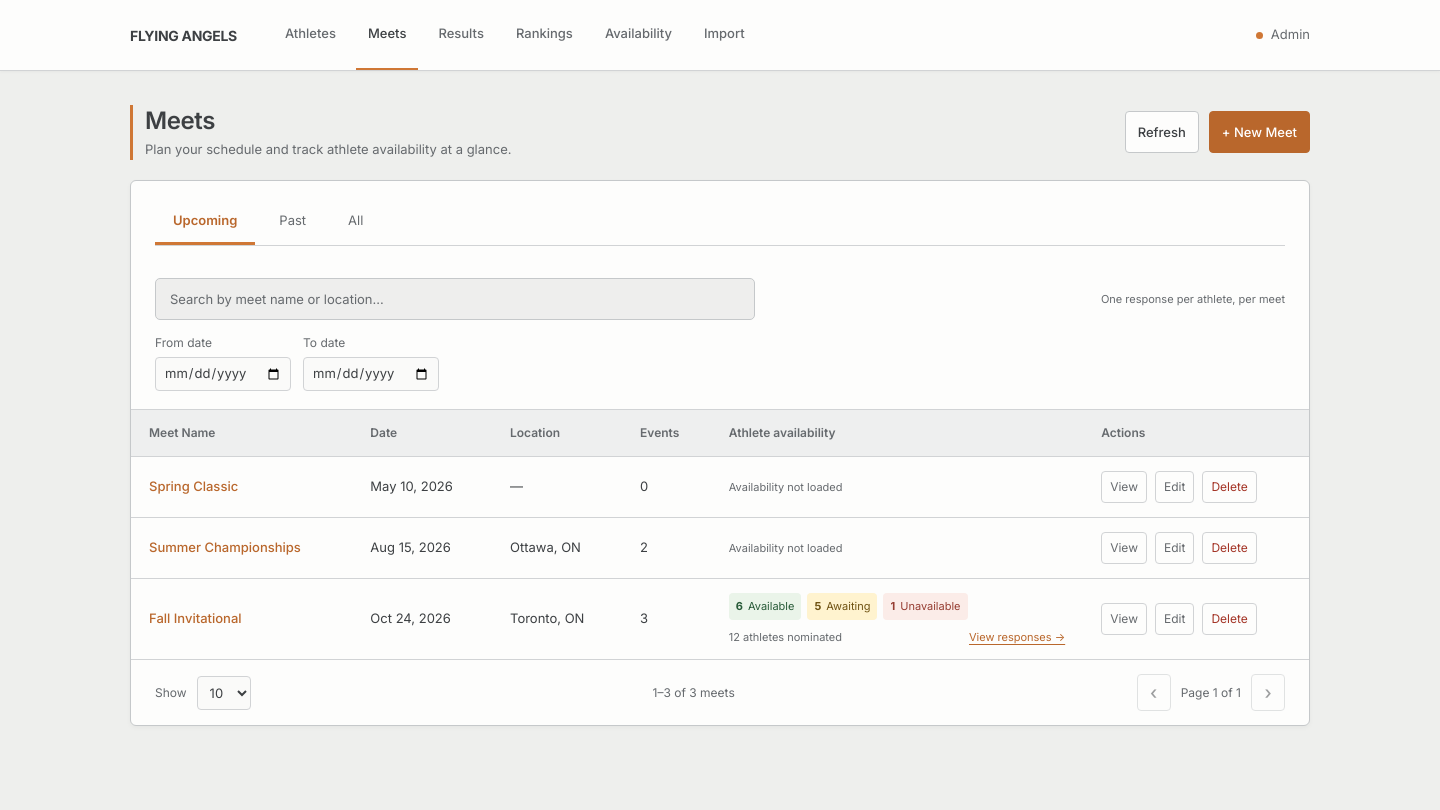
Scenario: Meets List › reloads response counts after meet edits invalidate confirmations
Expected: the column heading "Fall Invitational" is shown, [131, 579, 352, 659]
Click the button "Edit" in the row of "Fall Invitational". click: click(1175, 619)
box: [1155, 603, 1194, 635]
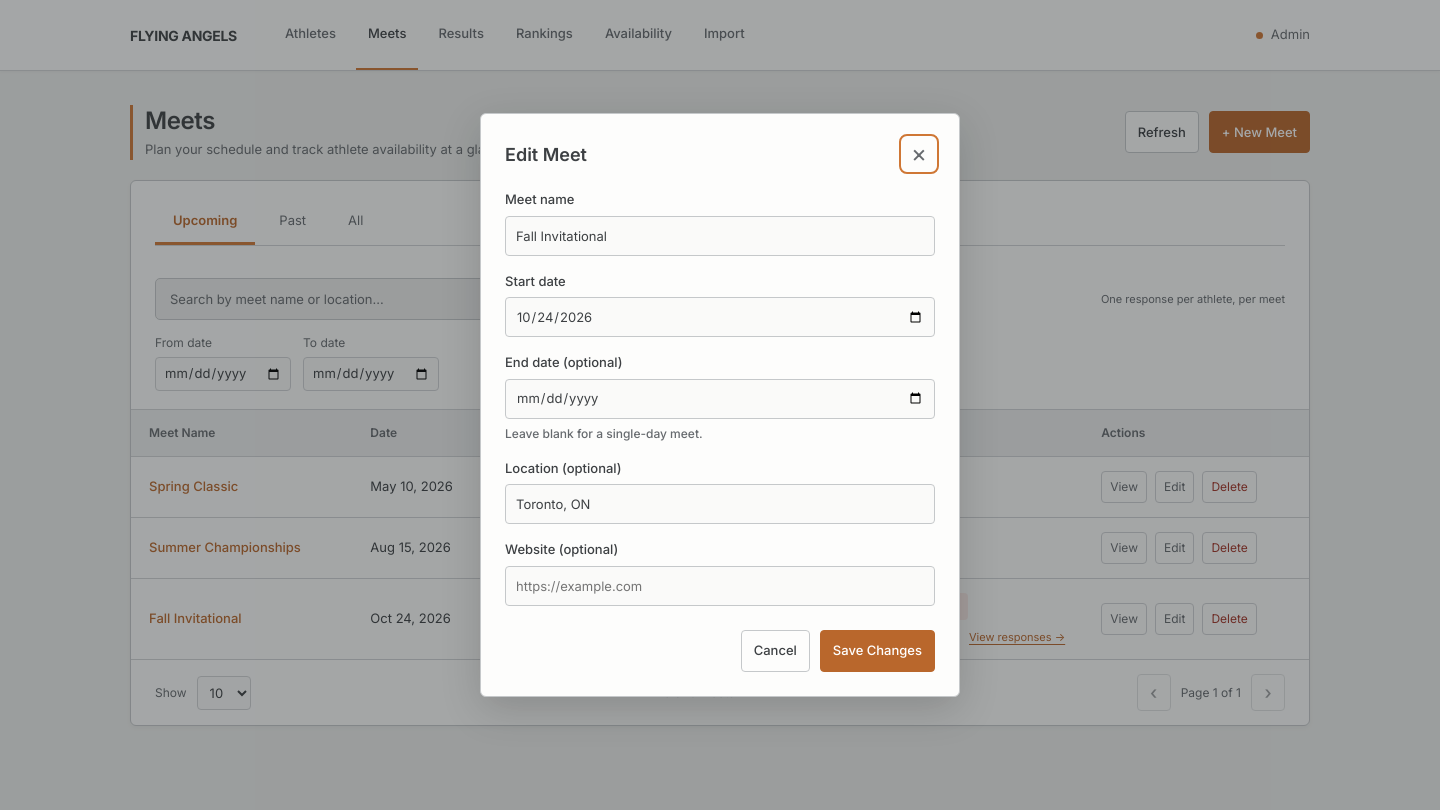
Replace the text in the field labelled "Location (optional)" with "New stadium". click: (720, 504)
box: [505, 484, 935, 524]
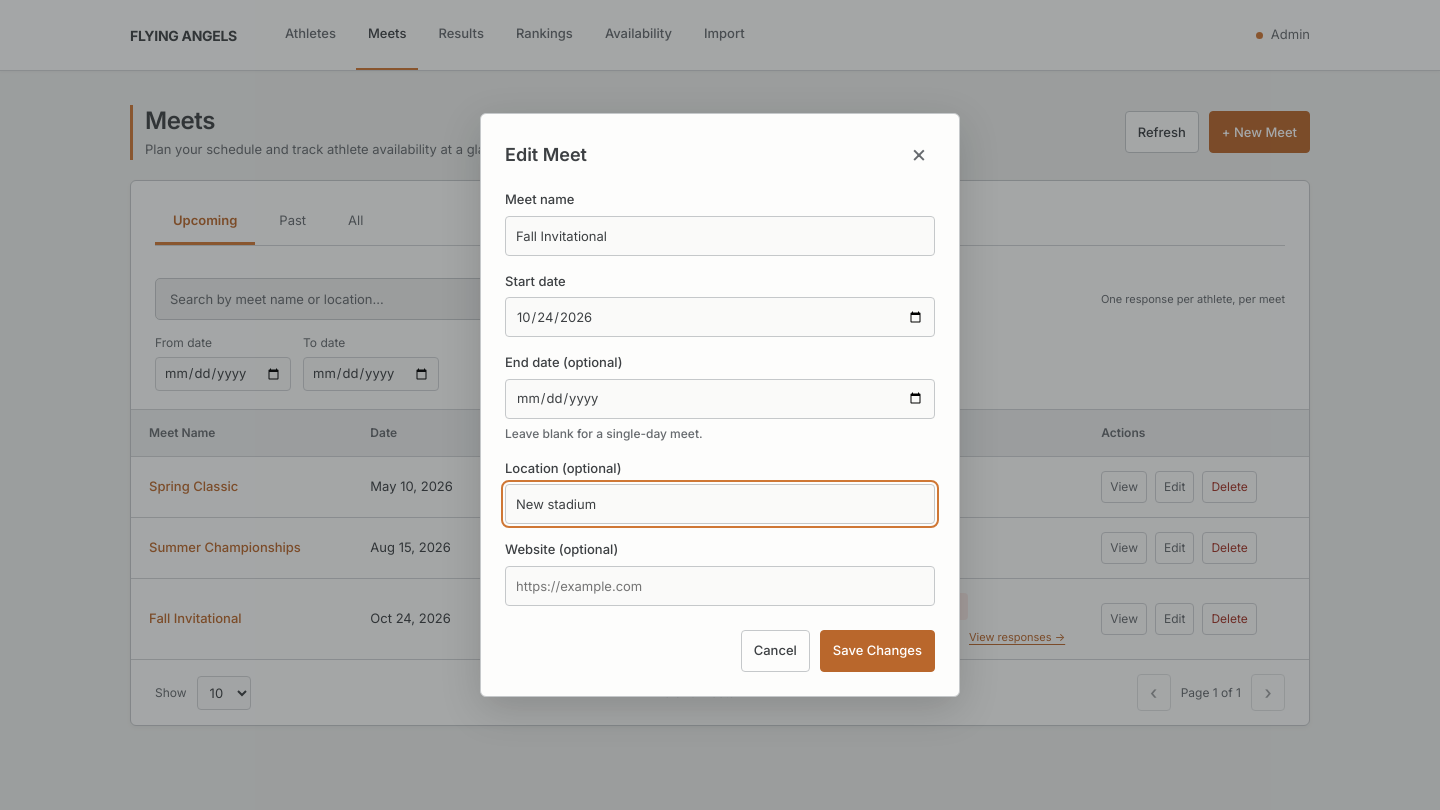
Click the button "Save Changes". click: click(877, 651)
box: [820, 630, 935, 672]
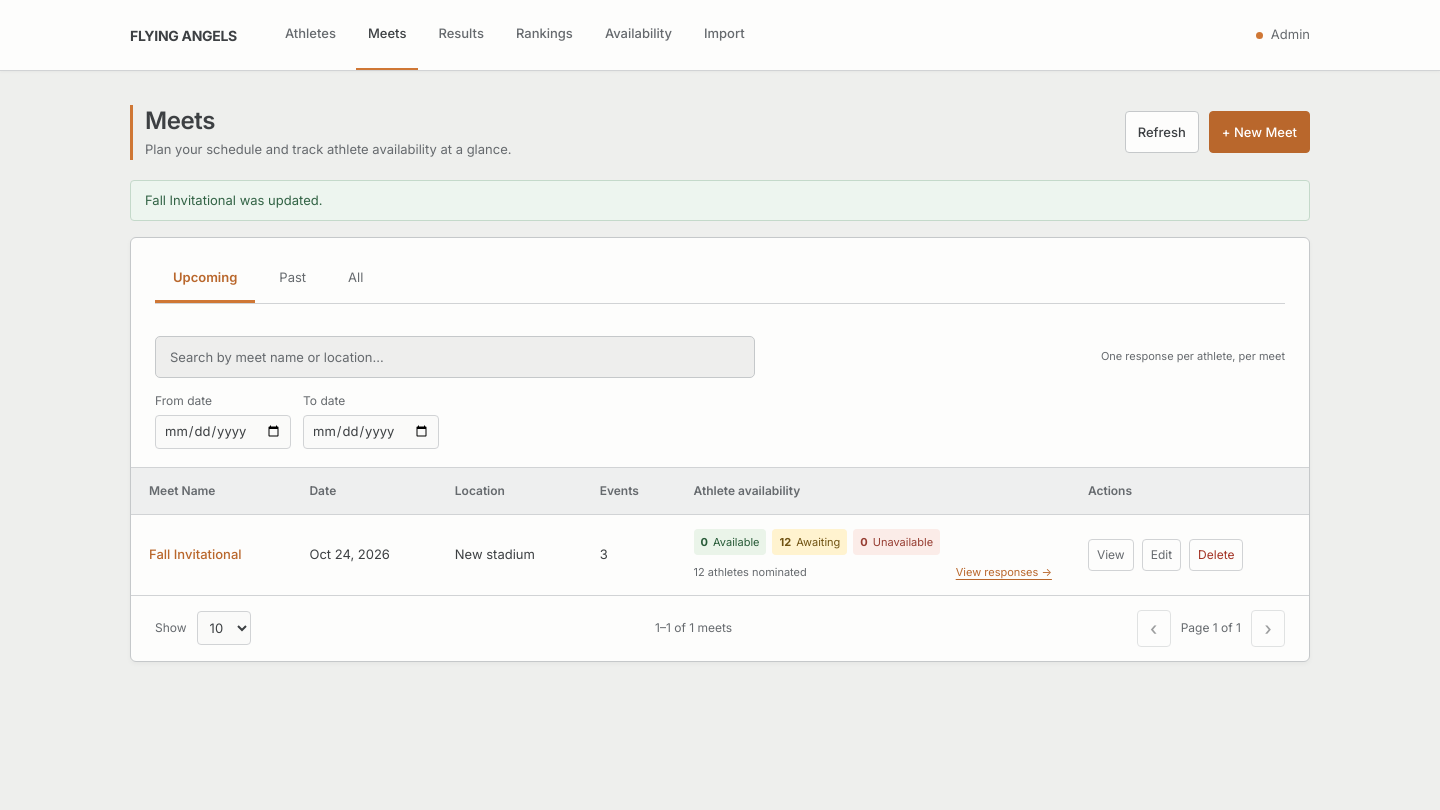
Expected: the text "New stadium" is shown, [437, 514, 582, 595]
